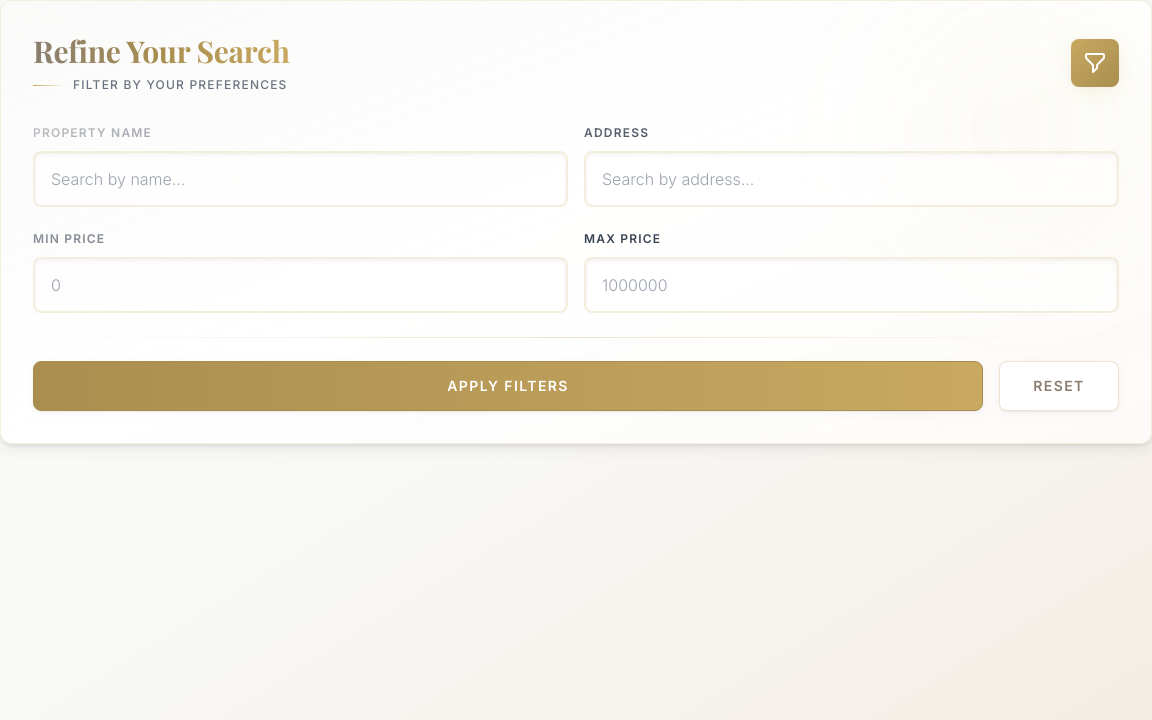
FilterBar › clears all inputs when reset is clicked
Type "Test" into the field labelled "Property Name" at (300, 179), box [33,151,568,207]
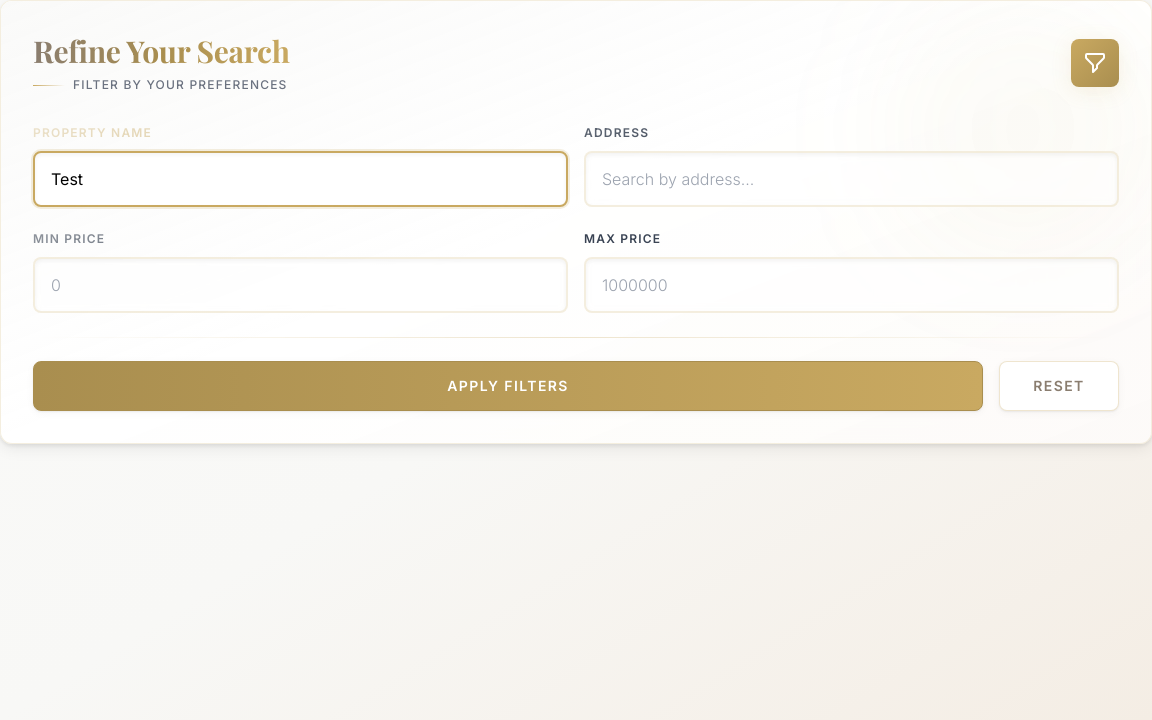
Type "Test Address" into the field labelled "Address" at (852, 179), box [584,151,1119,207]
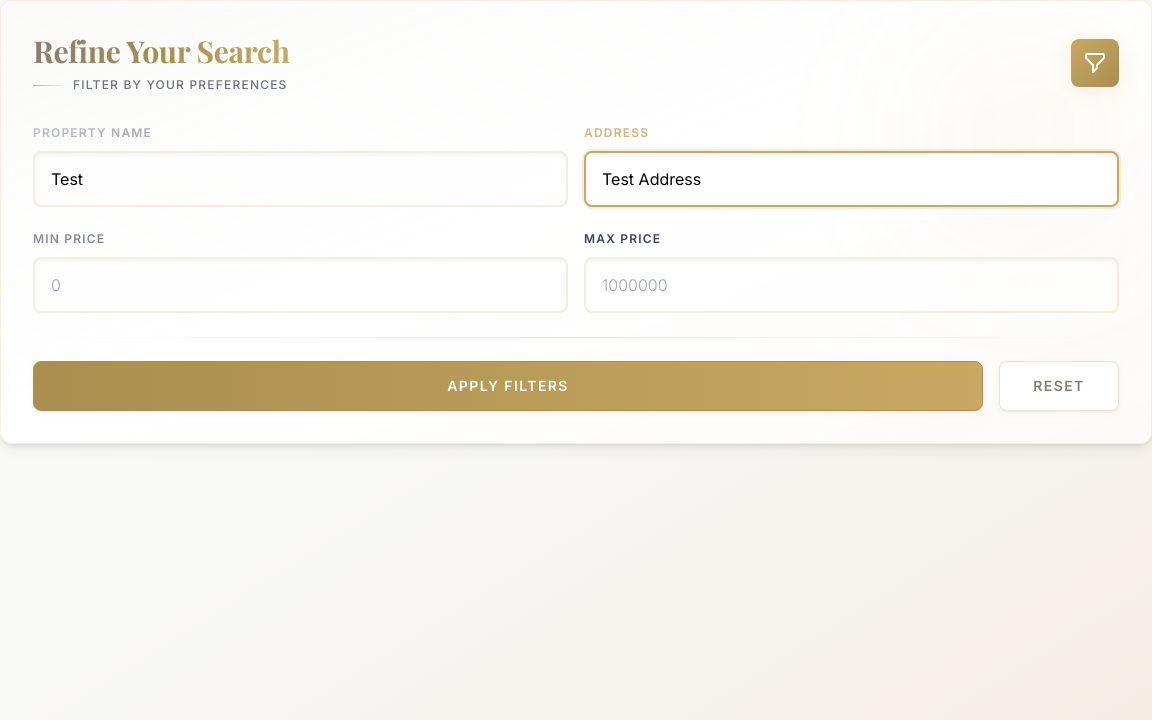
Click the button "Reset" at (1059, 386), box [999,361,1119,411]
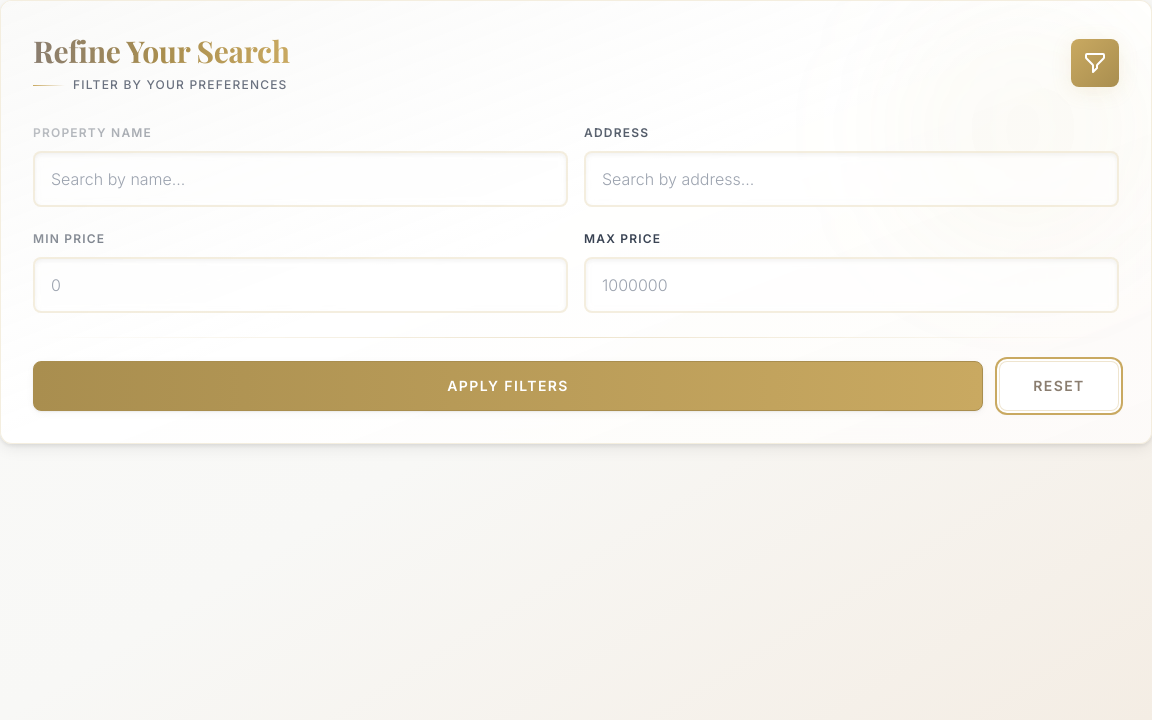
Expected: the field labelled "Property Name" is empty, [33,151,568,207]
Expected: the field labelled "Address" is empty, [584,151,1119,207]
